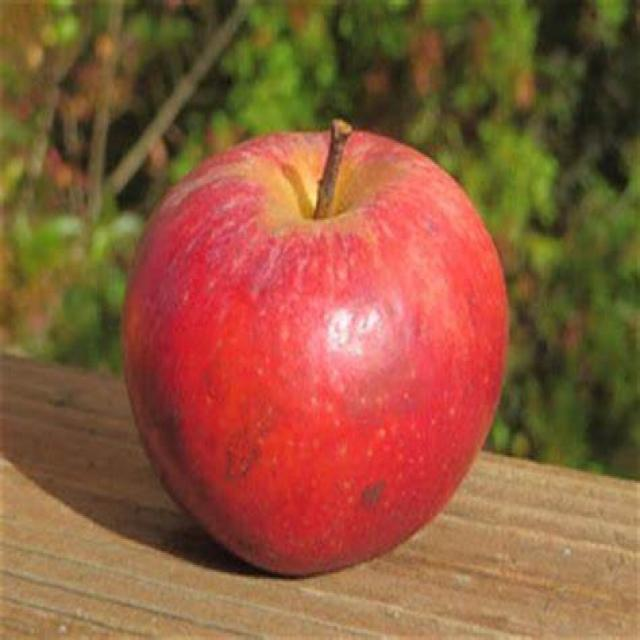Apple: (115, 110, 515, 582)
